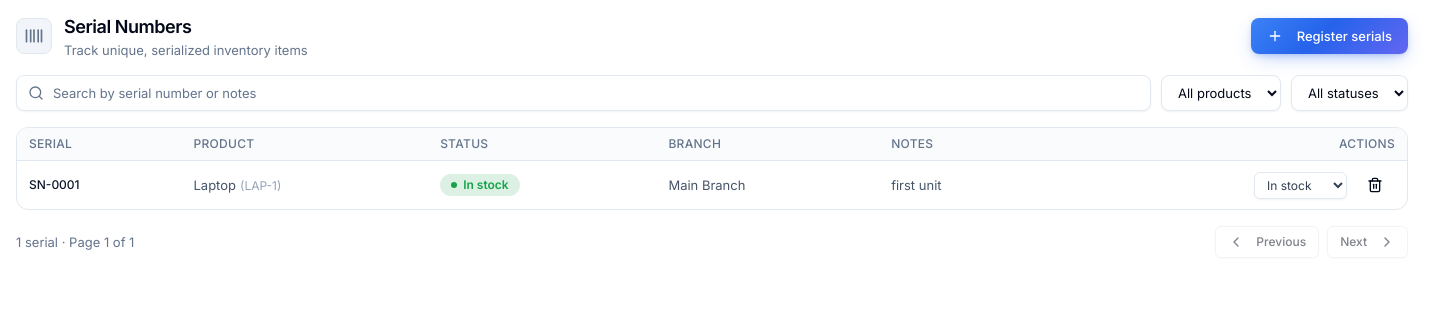
SerialsView › surfaces an error when the status update fails
Select "Damaged" in the dropdown named "update status for SN-0001" at (1300, 185), box [1254,172,1347,198]
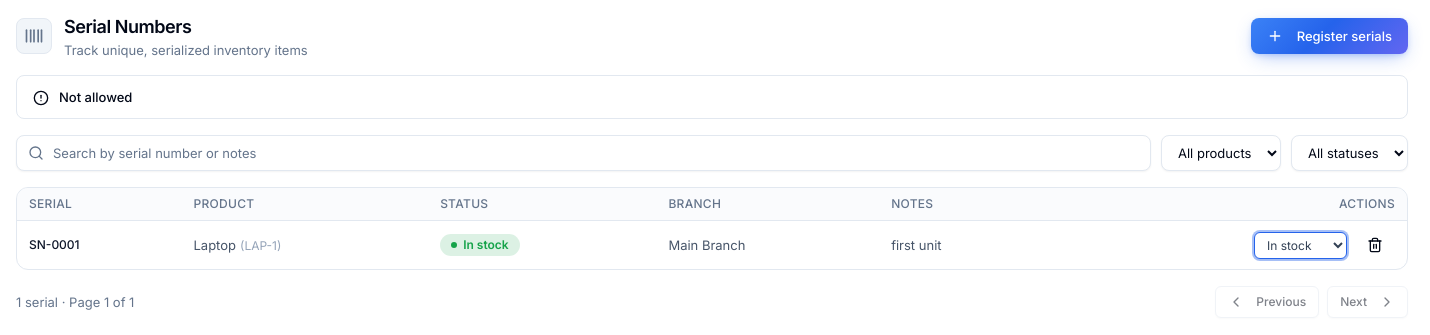
Now the text "Not allowed" is shown, box [59,88,132,106]
